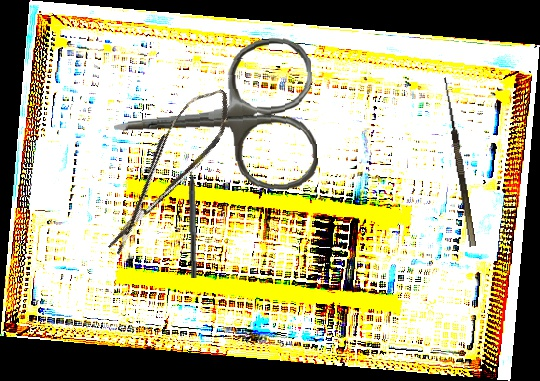Chopper: (186, 157, 206, 279)
Hook Surgical: (433, 76, 477, 249)
Iris Scissors: (108, 34, 320, 203)
Micro Scissor: (89, 78, 245, 262)
